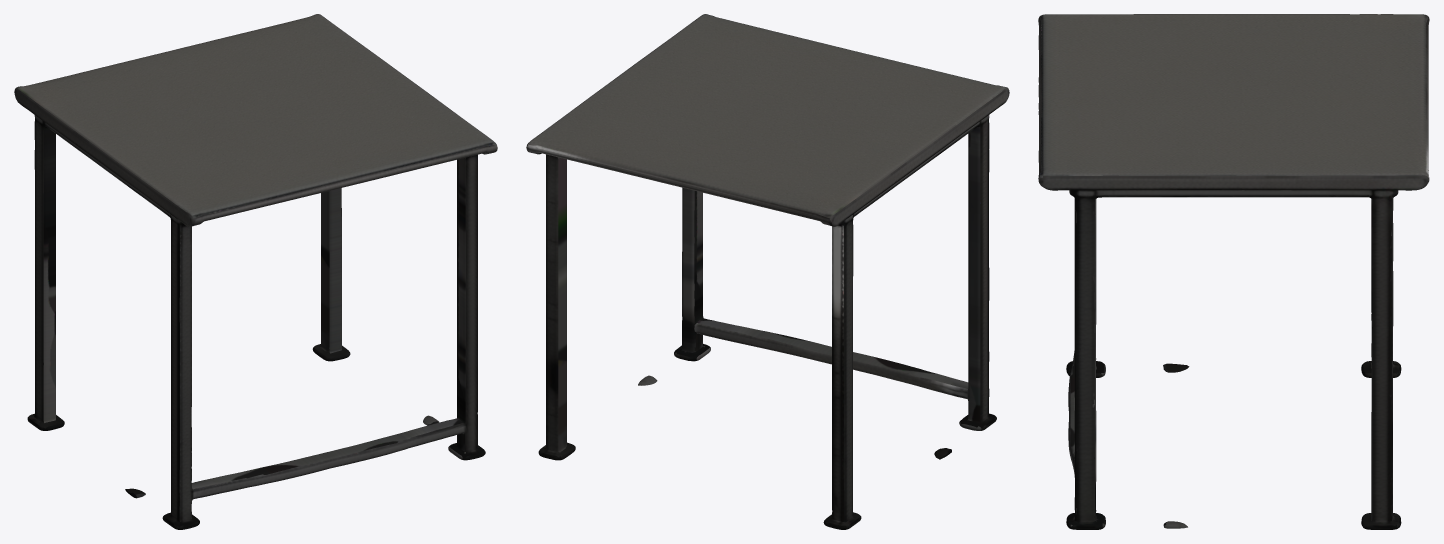
File: street-bus-shelter.glb
3 views of the same model, side by side, from view 1: azimuth 30°, elevation 25°; view 2: azimuth 150°, elevation 25°; view 3: azimuth 270°, elevation 25° (orthographic). The views are drawn at different scales.
Visible parts, largest first — view 1: tmpyhuvv_h4.ply; view 2: tmpyhuvv_h4.ply; view 3: tmpyhuvv_h4.ply.
Part boxes in pixels (x1,y1,x2,y2): tmpyhuvv_h4.ply: (14, 14, 497, 529); tmpyhuvv_h4.ply: (526, 14, 1009, 529); tmpyhuvv_h4.ply: (1038, 14, 1429, 529).
Size of the model in its own units: 1 by 1 by 1.
1 material, 1 textured.
